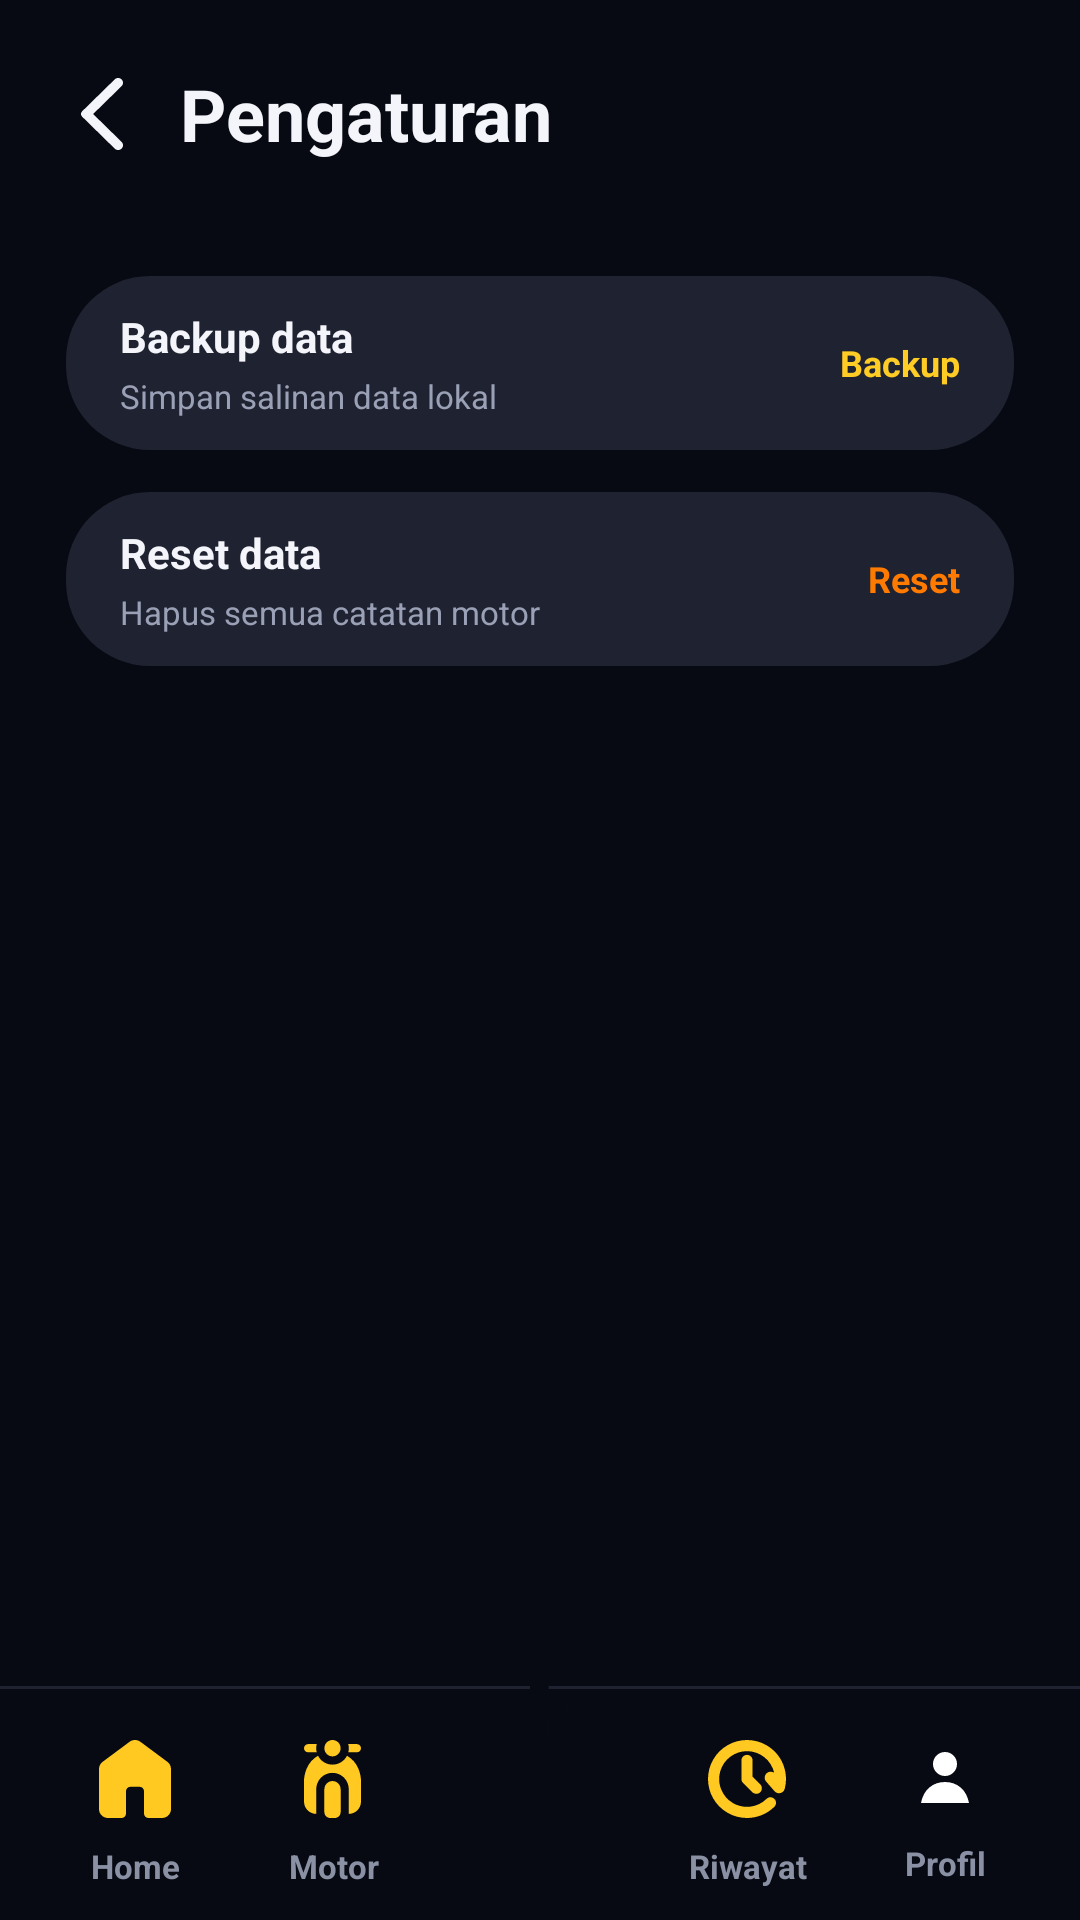

Named icons in this screenshot (1080×1920) and their bounding boxes, (x1, y1, x2, y2):
Kembali: (81, 78, 123, 150)
